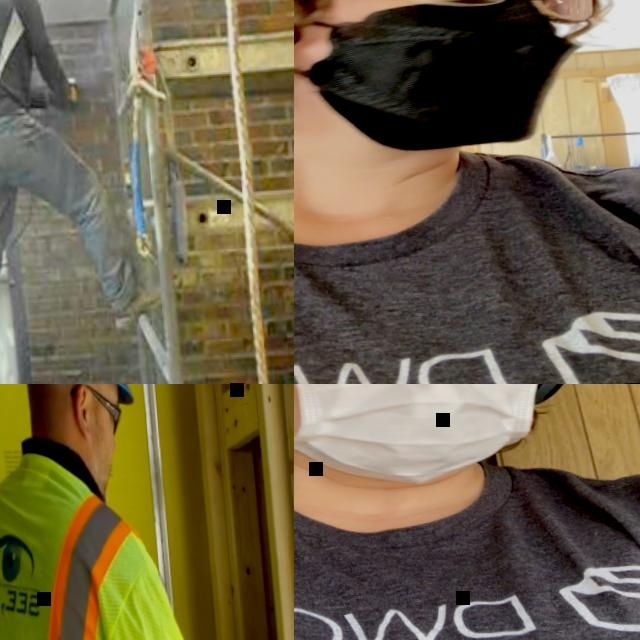Hardhat: (0, 384, 134, 417)
Mask: (294, 0, 585, 161), (294, 384, 555, 487)
NO-Mask: (83, 413, 118, 500)
NO-Safety Vest: (294, 133, 640, 384), (294, 442, 640, 640), (0, 0, 39, 135)
Person: (294, 0, 640, 384), (294, 384, 640, 640), (0, 384, 279, 640), (0, 0, 177, 384)
Safety Vest: (0, 450, 228, 640)
